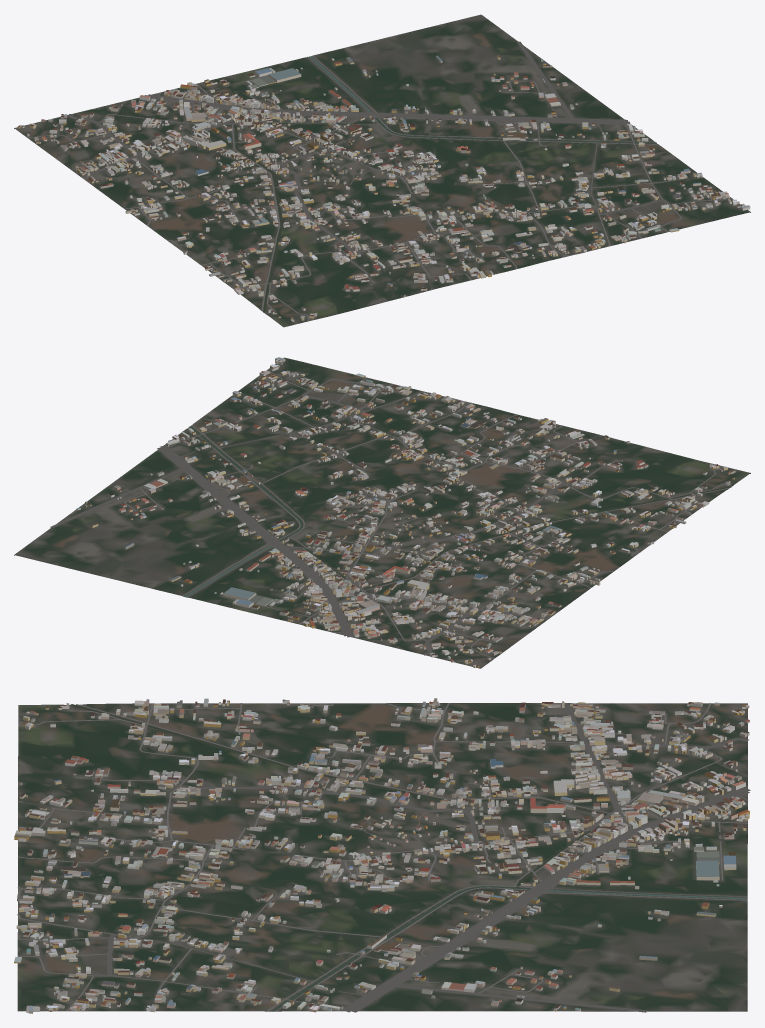
3 renders of one model, top to bottom at view 1: azimuth 30°, elevation 25°; view 2: azimuth 150°, elevation 25°; view 3: azimuth 270°, elevation 25°, orthographic. The views are drawn at different scales.
Visible parts, largest first — view 1: ground, buildings, roads, water; view 2: ground, buildings, roads, water; view 3: ground, buildings, roads, water.
Boxes of the visible parts, x1=… form: ground: x1=14, y1=14, x2=750, y2=327; buildings: x1=17, y1=54, x2=750, y2=321; roads: x1=28, y1=41, x2=732, y2=321; water: x1=229, y1=56, x2=656, y2=312; ground: x1=14, y1=357, x2=750, y2=668; buildings: x1=76, y1=357, x2=735, y2=667; roads: x1=50, y1=376, x2=729, y2=658; water: x1=184, y1=426, x2=731, y2=596; ground: x1=17, y1=703, x2=747, y2=1011; buildings: x1=14, y1=698, x2=749, y2=1013; roads: x1=17, y1=703, x2=750, y2=1012; water: x1=70, y1=704, x2=747, y2=1011.
Size of the model in its own units: 1422 by 22.18 by 1414.
